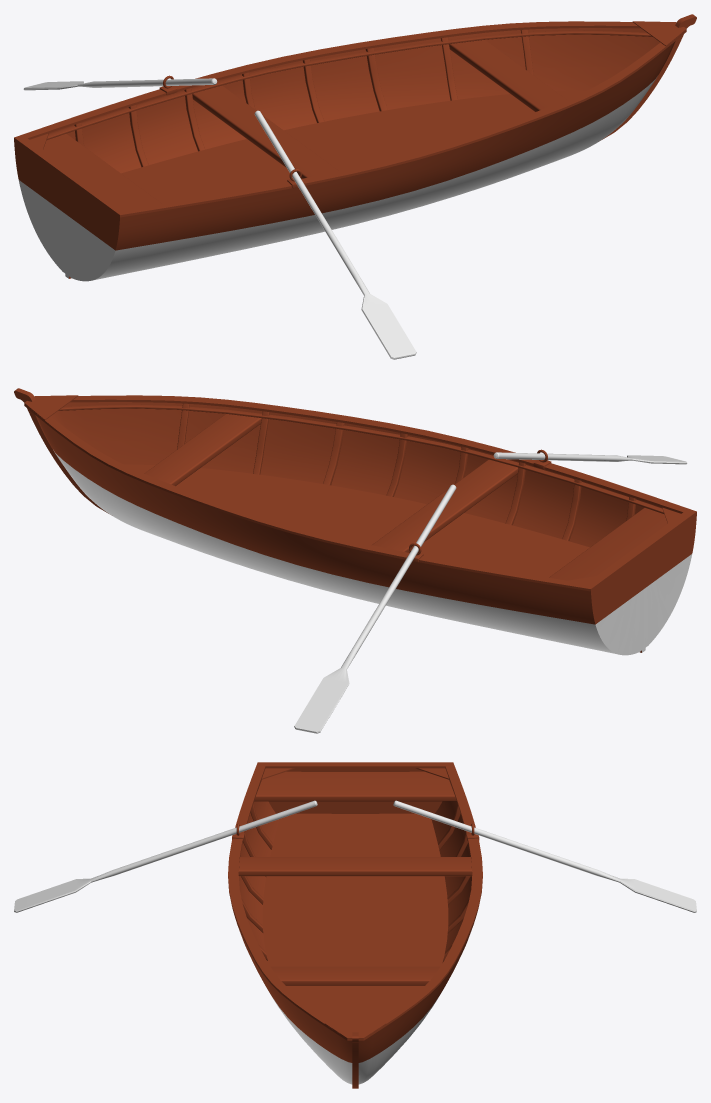
Rendered from Sivil_Kayik.fbx.
3 views of the same model, one above another, from view 1: azimuth 30°, elevation 25°; view 2: azimuth 150°, elevation 25°; view 3: azimuth 270°, elevation 25° (orthographic). The views are drawn at different scales.
Visible parts, largest first — view 1: boat, boat.001; view 2: boat, boat.001; view 3: boat, boat.001.
Boxes of the visible parts, box(x1,y1,x2,y2) form: boat: box(14, 14, 696, 281); boat.001: box(23, 78, 416, 359); boat: box(14, 388, 696, 655); boat.001: box(294, 452, 687, 733); boat: box(228, 762, 482, 1088); boat.001: box(14, 800, 696, 912).
Bounding box in the file's own units: 291 × 62.76 × 297.
